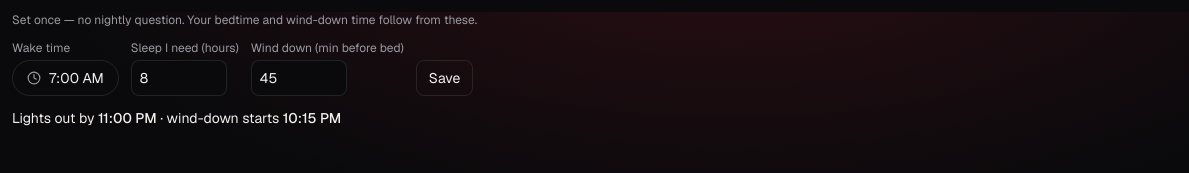
WindDownPlanSettings › surfaces a server refusal (e.g. Sleep plan OFF)
This screenshot has width=1189, height=173.
What coordinates should you click on to do the following:
click the button "Save"
I would click on:
 (445, 78)
Its box is [416,60,473,96].
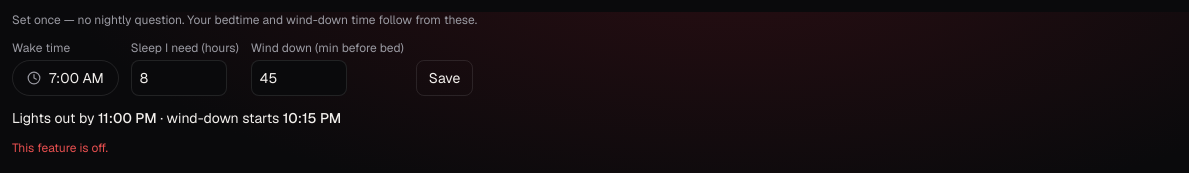
Expected: the message reads "This feature is off.", [12,140,108,156]
